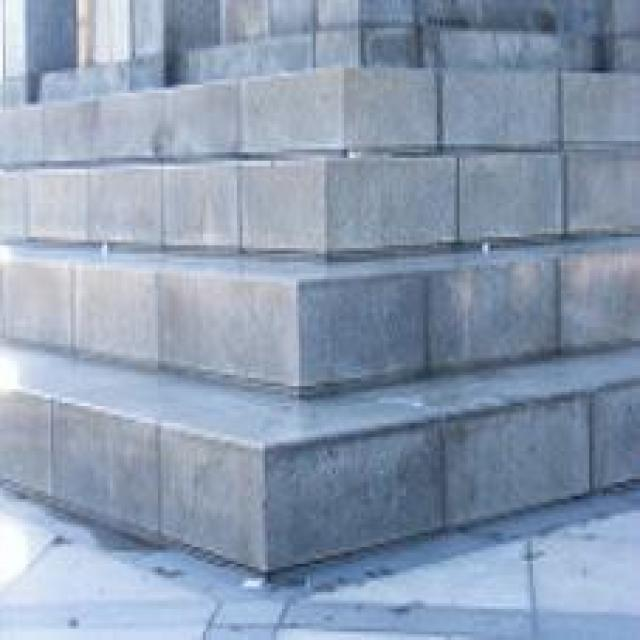upstair: (108, 66, 557, 365)
